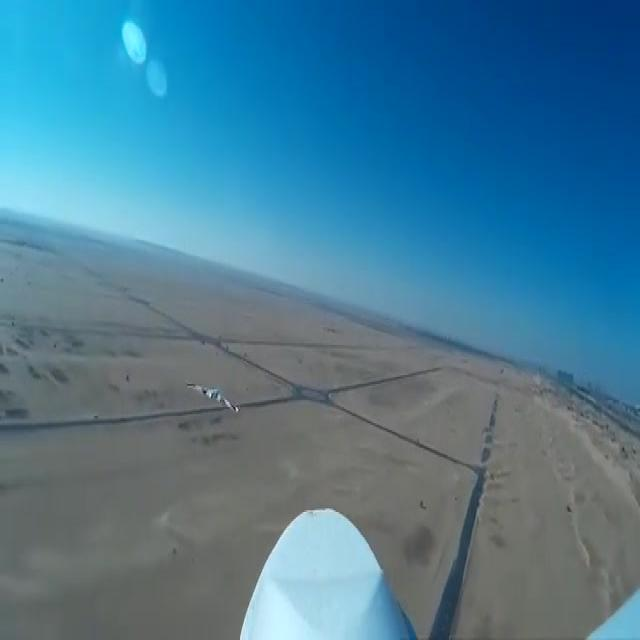iha: (185, 381, 241, 416)
